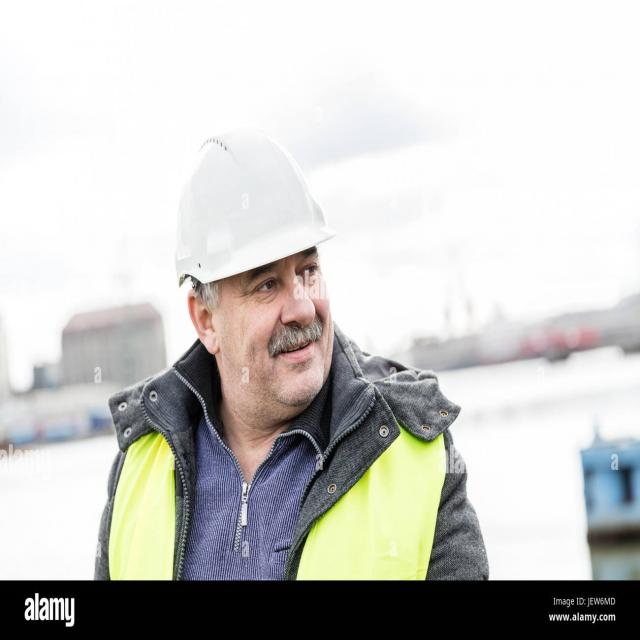Reflective-Jacket: (111, 364, 455, 575)
Safety-Helmet: (167, 121, 336, 287)
